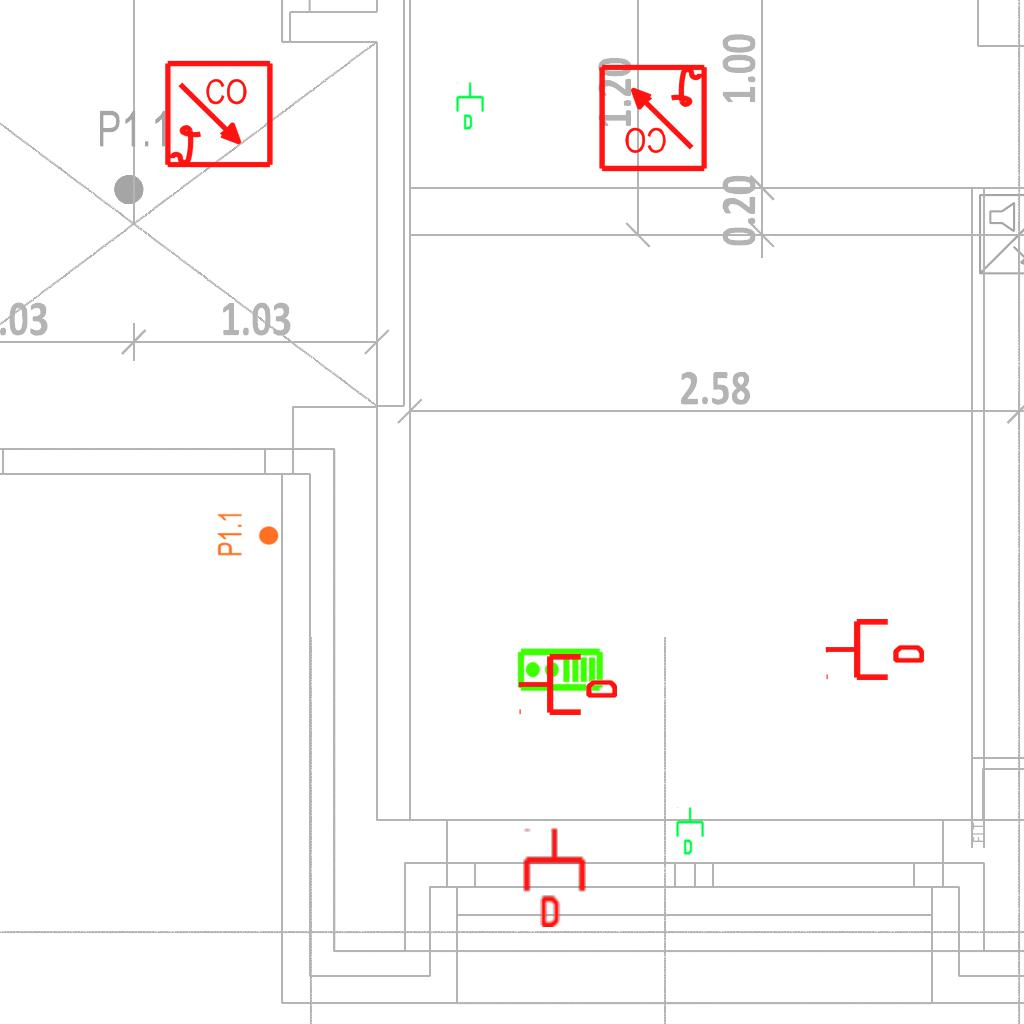Datenanschluss_einfach: (824, 615, 924, 684), (520, 827, 589, 927), (517, 650, 617, 719), (674, 806, 708, 856), (454, 81, 488, 131)
Downlight_LED_Einbauleuchten_Flur: (216, 511, 280, 557)
Gegensprechanlage_mit_Video: (516, 647, 604, 694)
ROA_Rauchmelder_optisch_mit_Signalgeber_(Sockelsirene): (596, 60, 709, 173), (163, 59, 276, 172)
